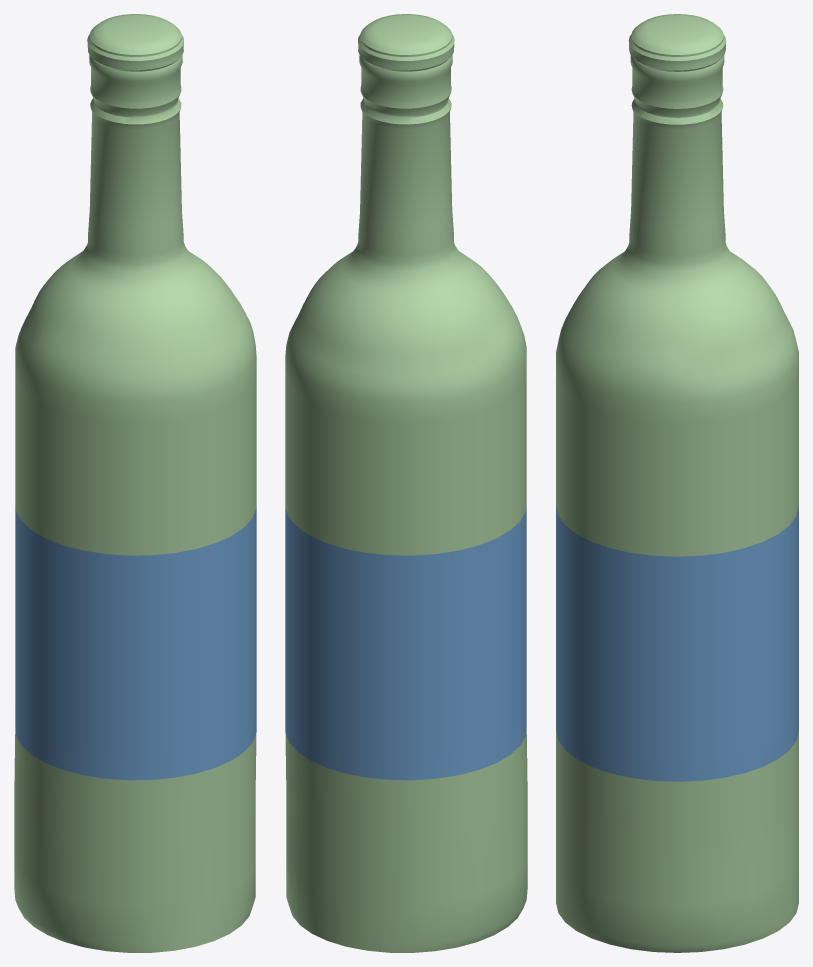
The model's file is botle.fbx.
The picture shows the model from 3 angles, left to right: view 1: azimuth 30°, elevation 25°; view 2: azimuth 150°, elevation 25°; view 3: azimuth 270°, elevation 25°; orthographic projection.
Parts seen in each view (by area): view 1: Cylinder.014; view 2: Cylinder.014; view 3: Cylinder.014.
Part boxes in pixels (x1,y1,x2,y2): Cylinder.014: [14, 14, 256, 952]; Cylinder.014: [285, 14, 527, 952]; Cylinder.014: [556, 14, 798, 952].
Bounding box in the file's own units: 22.04 × 88.44 × 22.04.
